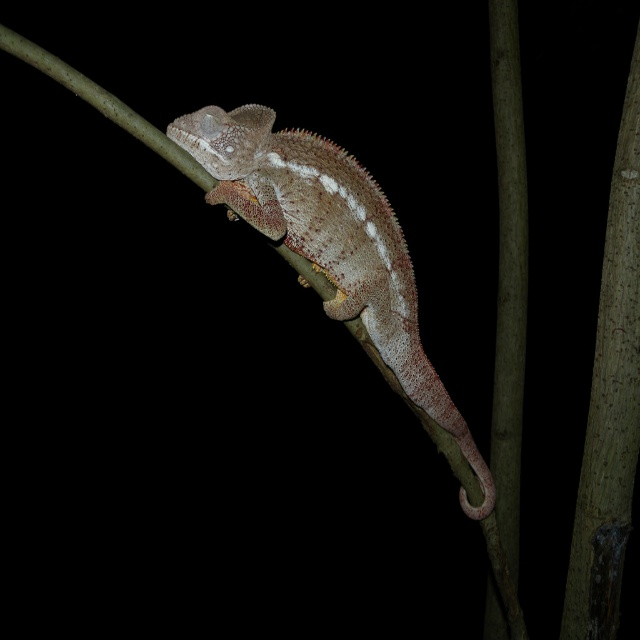Lizard: (143, 149, 491, 521)
